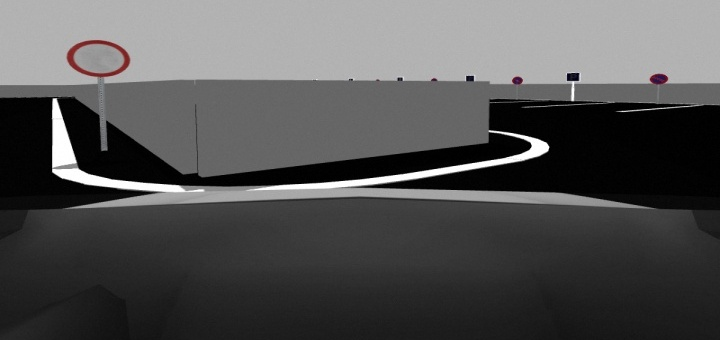girilmez: (67, 39, 132, 76)
